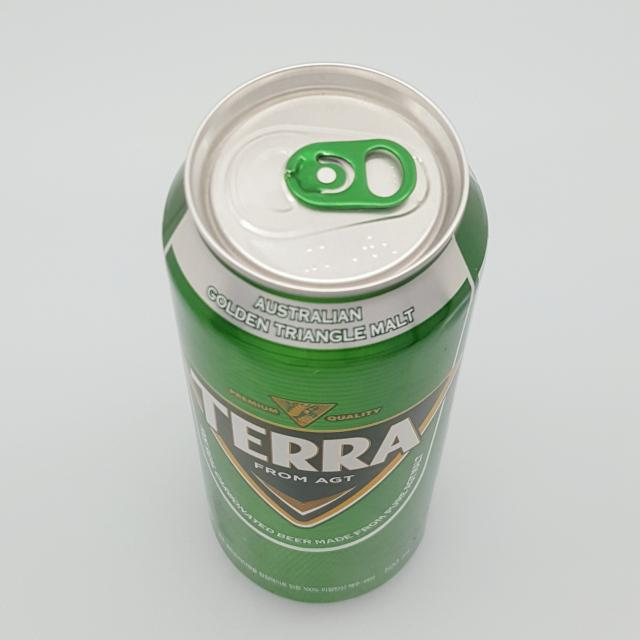beer-can: (161, 62, 488, 603)
